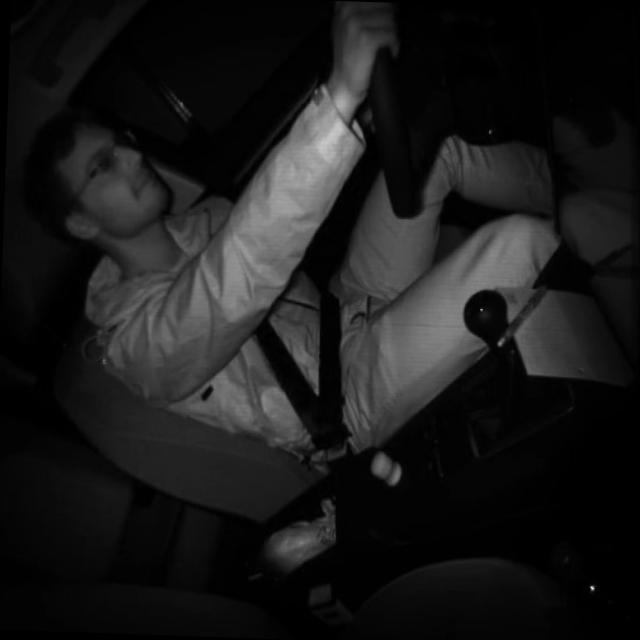pen: (496, 277, 550, 350)
